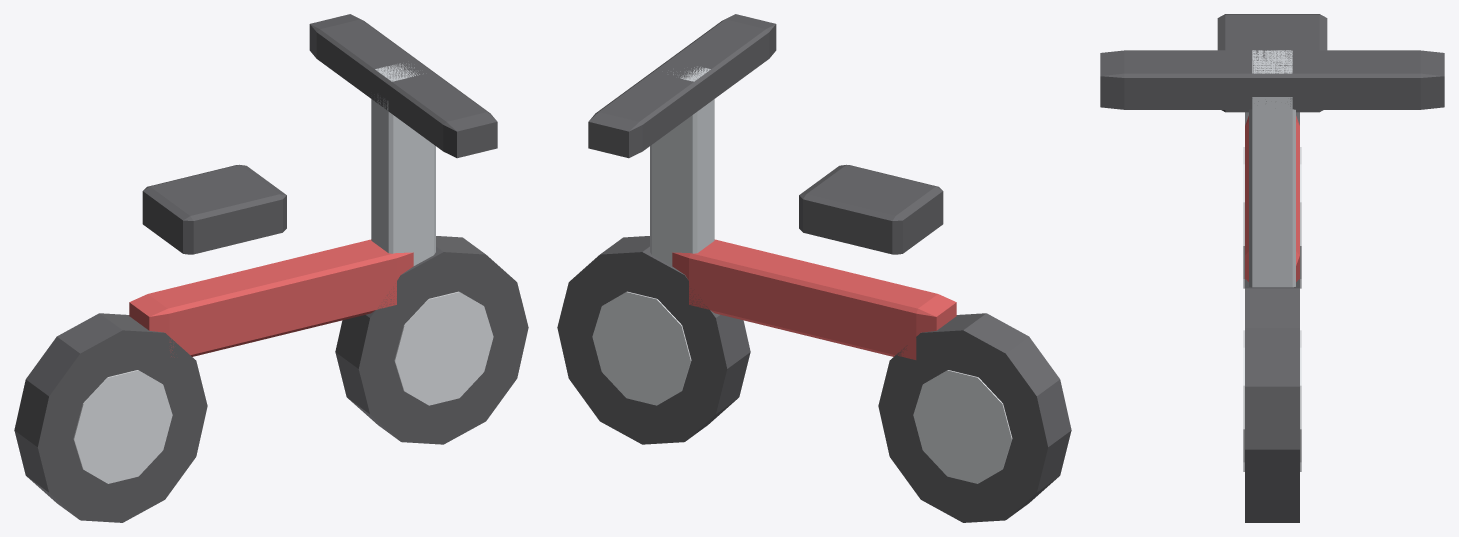
File: b03_stepthrough_motor_scooter.glb
3 views of the same model, side by side, from view 1: azimuth 30°, elevation 25°; view 2: azimuth 150°, elevation 25°; view 3: azimuth 270°, elevation 25° (orthographic). The views are drawn at different scales.
Parts seen in each view (by area): view 1: b03_stepthrough_motor_scooter; view 2: b03_stepthrough_motor_scooter; view 3: b03_stepthrough_motor_scooter.
Part boxes in pixels (<box>): b03_stepthrough_motor_scooter: <box>14,14,528,522</box>; b03_stepthrough_motor_scooter: <box>557,14,1071,522</box>; b03_stepthrough_motor_scooter: <box>1100,14,1444,522</box>.
Size of the model in its own units: 1.75 by 1.27 by 0.91.
